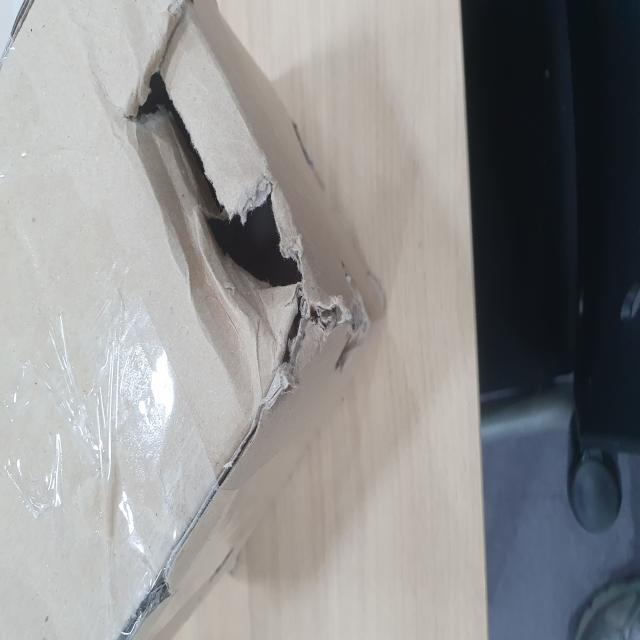hole: (129, 10, 353, 392)
